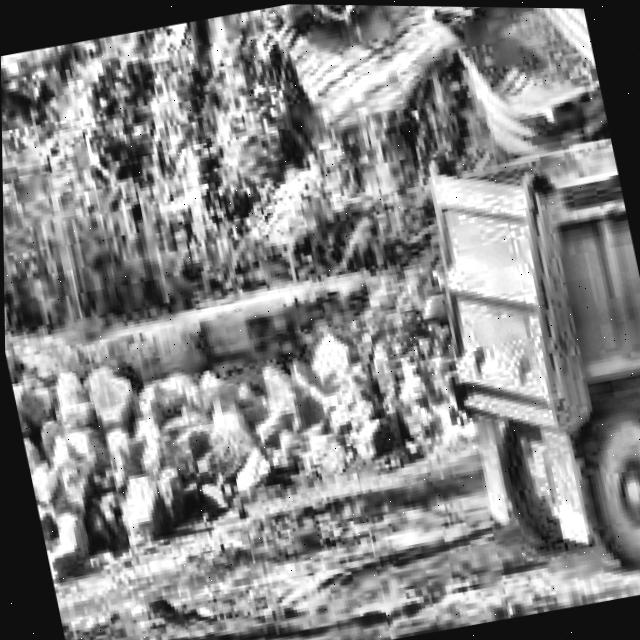dump_truck: (393, 61, 640, 592)
